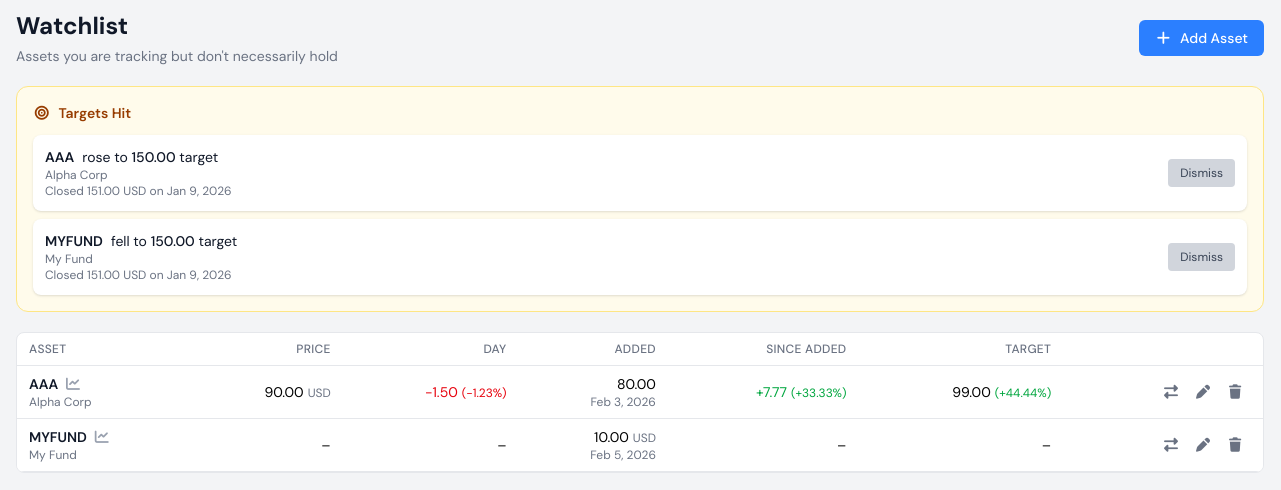
Test: Watchlist page › target alerts › lists alerts above the table and drops one on dismiss
The image size is (1281, 490).
Check: the element with test id "watchlist-alert-wa-1" shows "rose to", box [82,148,128,166]
Check: the element with test id "watchlist-alert-wa-2" shows "fell to", box [111,232,147,250]
What coordinates should you click on to do the following:
click the button with aria-label "Dismiss AAA alert"
I would click on:
 (1202, 173)
Its box is [1168,159,1235,187].
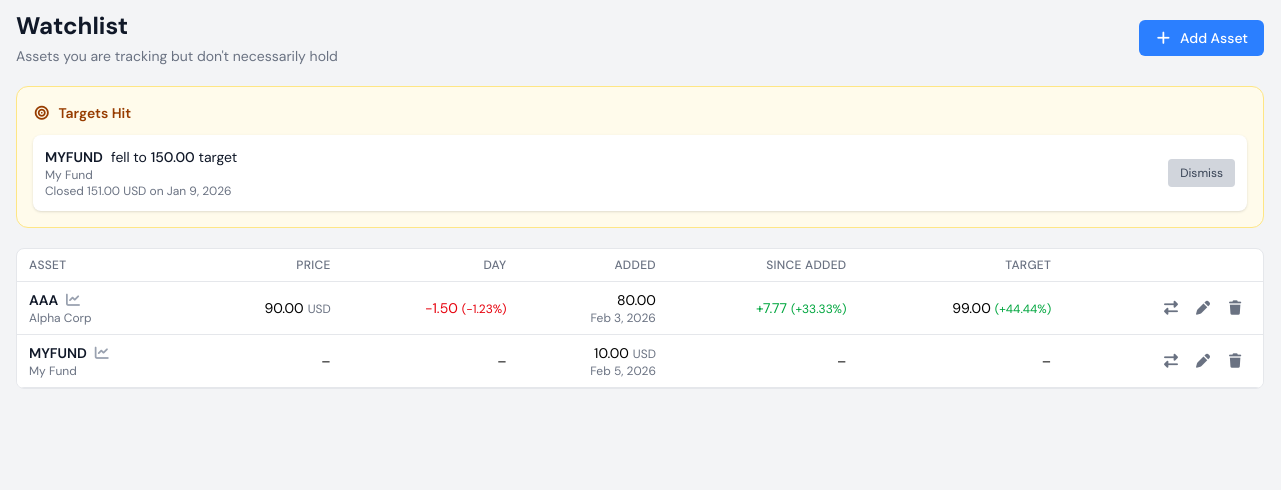
Check: the element with test id "watchlist-alert-wa-2" is shown, box [33,135,1247,211]
Check: the element with test id "watchlist-alert-wa-1" is gone
